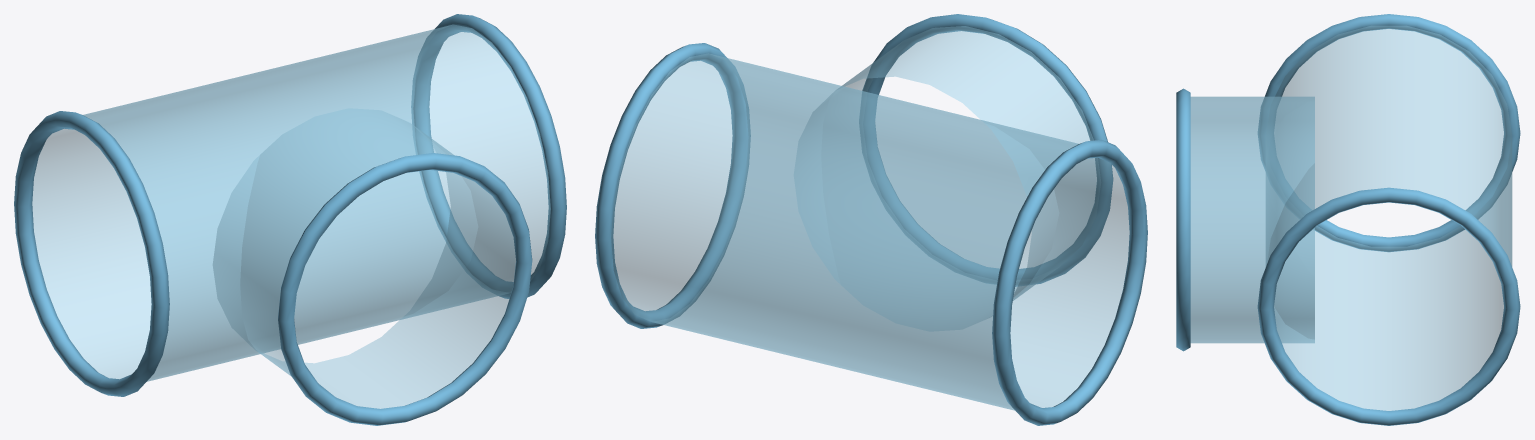
The picture shows the model from 3 angles, left to right: view 1: azimuth 30°, elevation 25°; view 2: azimuth 150°, elevation 25°; view 3: azimuth 270°, elevation 25°; orthographic projection. The views are drawn at different scales.
Parts seen in each view (by area): view 1: tube_body, tube_rims; view 2: tube_body, tube_rims; view 3: tube_body, tube_rims.
Part boxes in pixels (x1,y1,x2,y2): tube_body: [32, 24, 550, 408]; tube_rims: [14, 14, 566, 425]; tube_body: [611, 26, 1129, 410]; tube_rims: [595, 14, 1147, 425]; tube_body: [1190, 25, 1512, 410]; tube_rims: [1176, 14, 1520, 425].
Bounding box in the file's own units: 1.03 × 0.64 × 0.8373.
